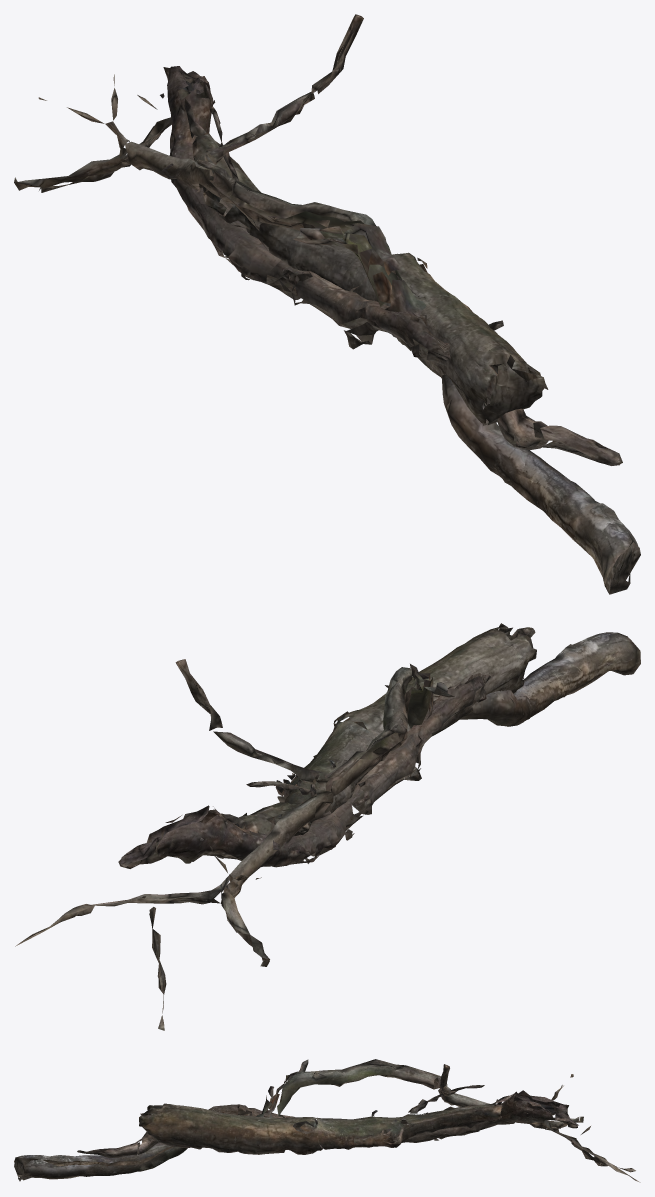
The model's file is branches.glb.
3 renders of one model, top to bottom at view 1: azimuth 30°, elevation 25°; view 2: azimuth 150°, elevation 25°; view 3: azimuth 270°, elevation 25°, orthographic. The views are drawn at different scales.
Parts seen in each view (by area): view 1: dry_branches_medium_01_a, dry_branches_medium_01_c, dry_branches_medium_01_b; view 2: dry_branches_medium_01_a, dry_branches_medium_01_b, dry_branches_medium_01_c; view 3: dry_branches_medium_01_c, dry_branches_medium_01_a, dry_branches_medium_01_b.
Boxes of the visible parts, x1,y1,x2,y2 form: dry_branches_medium_01_a: (14,14,640,594); dry_branches_medium_01_c: (184,98,548,425); dry_branches_medium_01_b: (160,66,622,465); dry_branches_medium_01_a: (15,632,640,1030); dry_branches_medium_01_b: (118,627,535,868); dry_branches_medium_01_c: (219,623,536,843); dry_branches_medium_01_c: (139,1085,514,1154); dry_branches_medium_01_a: (14,1059,640,1182); dry_branches_medium_01_b: (77,1090,578,1158).
Size of the model in its own units: 0.3146 by 0.3356 by 1.29.
1 material, 1 textured.
